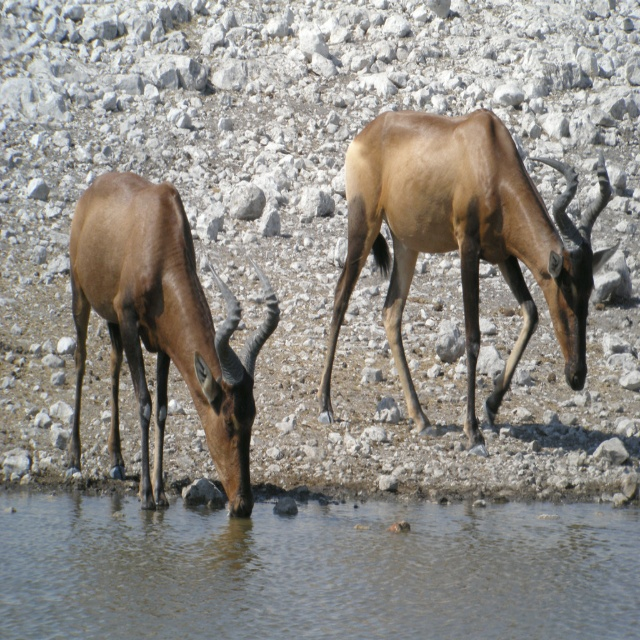Deer: (315, 108, 611, 457), (67, 171, 281, 517)
